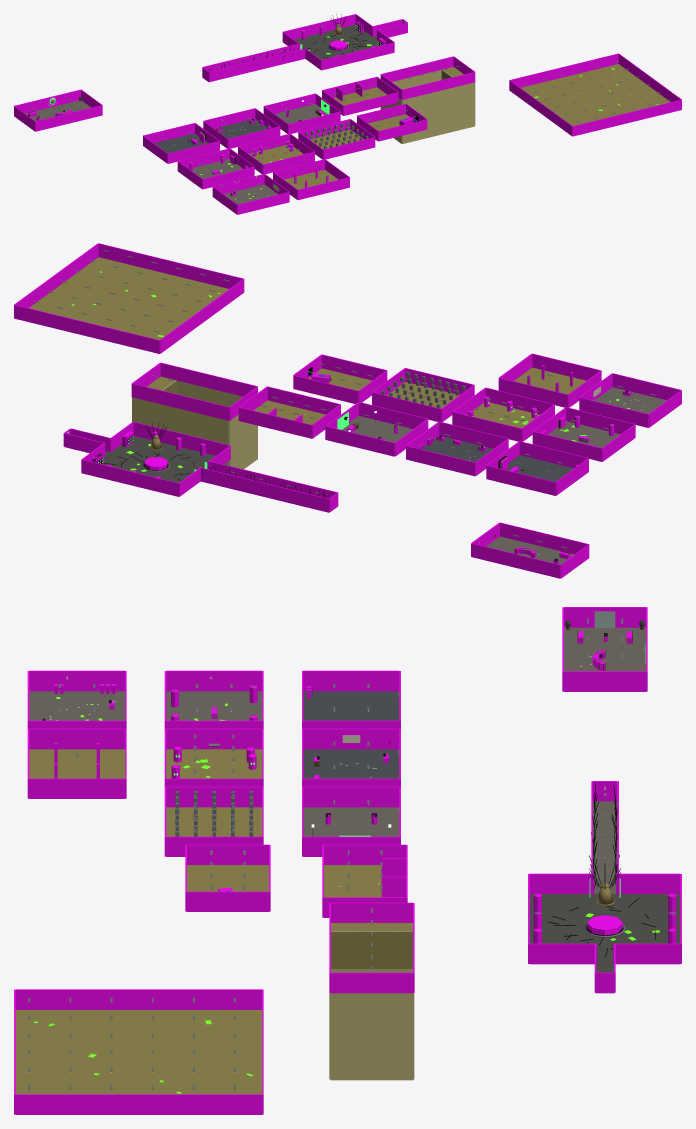
File: torre.glb
3 views of the same model, one above another, from view 1: azimuth 30°, elevation 25°; view 2: azimuth 150°, elevation 25°; view 3: azimuth 270°, elevation 25° (orthographic). The views are drawn at different scales.
Visible parts, largest first — view 1: FLOOR_labirinto, static_MAT_CLOTH_wall_becos, FLOOR_sino, static_MAT_METAL_steel_torre, COL_box_labirinto_front, COL_box_labirinto_back, COL_box_cabos_front, COL_box_sino_front, COL_box_pil_front, COL_box_pil_back, COL_box_recepcao_front, COL_box_labirinto_L (+35 smaller); view 2: FLOOR_labirinto, static_MAT_CLOTH_wall_becos, FLOOR_sino, COL_box_labirinto_back, static_MAT_METAL_steel_torre, COL_box_labirinto_front, COL_box_cabos_back, COL_box_sino_back, COL_box_pil_back, COL_box_pil_front, COL_box_recepcao_back, COL_box_labirinto_L (+36 smaller); view 3: FLOOR_labirinto, static_MAT_CLOTH_wall_becos, FLOOR_sino, COL_box_labirinto_R, COL_box_labirinto_L, FLOOR_pil_entry, FLOOR_recepcao, FLOOR_seguranca, FLOOR_editorial, FLOOR_analise, FLOOR_escuro, FLOOR_estudio (+35 smaller).
Boxes of the visible parts, left/top/right/bottom form: FLOOR_labirinto: left=521, top=64, right=670, bottom=125; static_MAT_CLOTH_wall_becos: left=380, top=70, right=475, bottom=143; FLOOR_sino: left=294, top=24, right=378, bottom=59; static_MAT_METAL_steel_torre: left=30, top=22, right=670, bottom=196; COL_box_labirinto_front: left=572, top=99, right=681, bottom=136; COL_box_labirinto_back: left=509, top=53, right=618, bottom=87; COL_box_cabos_front: left=208, top=48, right=305, bottom=82; COL_box_sino_front: left=321, top=42, right=394, bottom=70; COL_box_pil_front: left=402, top=72, right=475, bottom=99; COL_box_pil_back: left=381, top=56, right=453, bottom=81; COL_box_recepcao_front: left=35, top=105, right=102, bottom=131; COL_box_labirinto_L: left=509, top=80, right=572, bottom=135; FLOOR_labirinto: left=29, top=257, right=228, bottom=339; static_MAT_CLOTH_wall_becos: left=132, top=380, right=257, bottom=469; FLOOR_sino: left=103, top=435, right=215, bottom=482; COL_box_labirinto_back: left=14, top=304, right=160, bottom=353; static_MAT_METAL_steel_torre: left=33, top=250, right=655, bottom=556; COL_box_labirinto_front: left=98, top=243, right=243, bottom=288; COL_box_cabos_back: left=199, top=467, right=329, bottom=512; COL_box_sino_back: left=81, top=459, right=179, bottom=496; COL_box_pil_back: left=131, top=383, right=229, bottom=420; COL_box_pil_front: left=160, top=362, right=257, bottom=396; COL_box_recepcao_back: left=471, top=543, right=560, bottom=578; COL_box_labirinto_L: left=160, top=279, right=244, bottom=353; FLOOR_labirinto: left=15, top=1010, right=262, bottom=1094; static_MAT_CLOTH_wall_becos: left=329, top=969, right=414, bottom=1080; FLOOR_sino: left=529, top=894, right=680, bottom=963; COL_box_labirinto_R: left=15, top=1094, right=262, bottom=1114; COL_box_labirinto_L: left=15, top=989, right=262, bottom=1009; FLOOR_pil_entry: left=331, top=923, right=412, bottom=968; FLOOR_recepcao: left=564, top=627, right=646, bottom=671; FLOOR_seguranca: left=303, top=691, right=399, bottom=720; FLOOR_editorial: left=303, top=749, right=399, bottom=778; FLOOR_analise: left=29, top=691, right=125, bottom=720; FLOOR_escuro: left=29, top=749, right=125, bottom=778; FLOOR_estudio: left=303, top=807, right=399, bottom=836.
Bounding box in the file's own units: 168 × 23.56 × 97.44.
